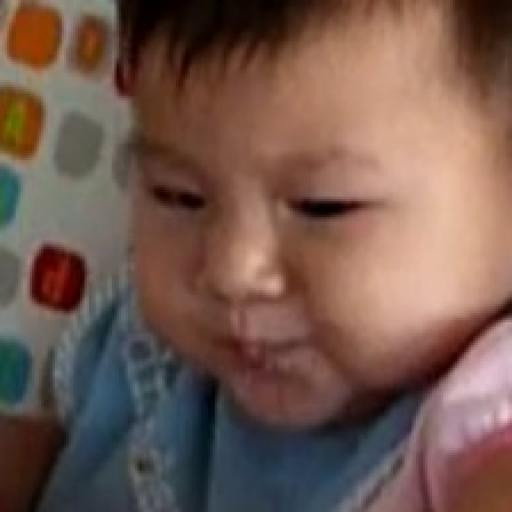Autism: (98, 0, 512, 429)
